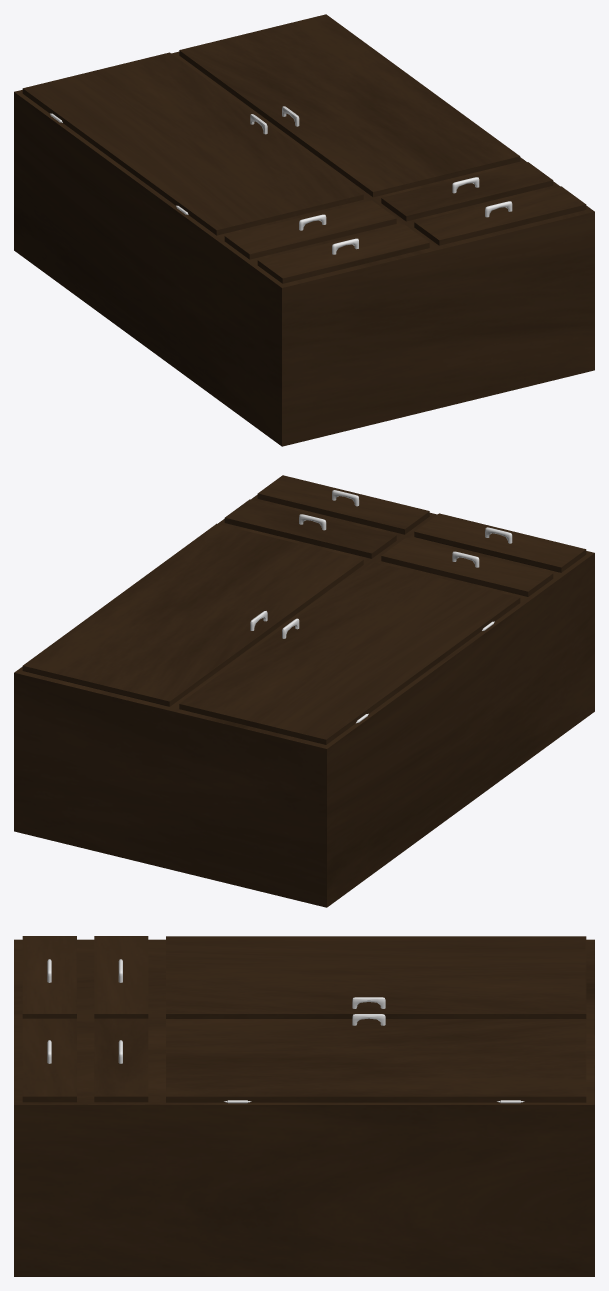
Rendered from Armario.fbx.
The picture shows the model from 3 angles, top to bottom: view 1: azimuth 30°, elevation 25°; view 2: azimuth 150°, elevation 25°; view 3: azimuth 270°, elevation 25°; orthographic projection. The views are drawn at different scales.
Visible parts, largest first — view 1: ArmarioCuerpo, ArmarioPuertaDer, ArmarioPuertaIzq, ArmarioCajonInfIzq, ArmarioCajonSupDer, ArmarioCajonInfDer, ArmarioCajonSupIzq; view 2: ArmarioCuerpo, ArmarioPuertaDer, ArmarioPuertaIzq, ArmarioCajonInfIzq, ArmarioCajonSupDer, ArmarioCajonSupIzq, ArmarioCajonInfDer; view 3: ArmarioCuerpo, ArmarioPuertaIzq, ArmarioPuertaDer, ArmarioCajonSupIzq, ArmarioCajonInfIzq, ArmarioCajonSupDer, ArmarioCajonInfDer.
Part boxes in pixels (left/top/right/bottom): ArmarioCuerpo: left=14, top=51, right=594, bottom=446; ArmarioPuertaDer: left=22, top=52, right=363, bottom=235; ArmarioPuertaIzq: left=179, top=14, right=520, bottom=197; ArmarioCajonInfIzq: left=414, top=186, right=586, bottom=245; ArmarioCajonSupDer: left=224, top=200, right=396, bottom=259; ArmarioCajonInfDer: left=257, top=224, right=429, bottom=283; ArmarioCajonSupIzq: left=381, top=162, right=553, bottom=221; ArmarioCuerpo: left=14, top=494, right=594, bottom=907; ArmarioPuertaDer: left=179, top=562, right=520, bottom=744; ArmarioPuertaIzq: left=22, top=523, right=363, bottom=706; ArmarioCajonInfIzq: left=257, top=475, right=429, bottom=534; ArmarioCajonSupDer: left=381, top=537, right=553, bottom=596; ArmarioCajonSupIzq: left=224, top=499, right=396, bottom=558; ArmarioCajonInfDer: left=414, top=513, right=586, bottom=572; ArmarioCuerpo: left=14, top=939, right=594, bottom=1276; ArmarioPuertaIzq: left=166, top=1014, right=586, bottom=1103; ArmarioPuertaDer: left=166, top=936, right=586, bottom=1018; ArmarioCajonSupIzq: left=94, top=1018, right=148, bottom=1102; ArmarioCajonInfIzq: left=22, top=1018, right=76, bottom=1102; ArmarioCajonSupDer: left=94, top=936, right=148, bottom=1018; ArmarioCajonInfDer: left=22, top=936, right=76, bottom=1018.
Bounding box in the file's own units: 156 × 82.7 × 231.
8 materials, 7 textured.
